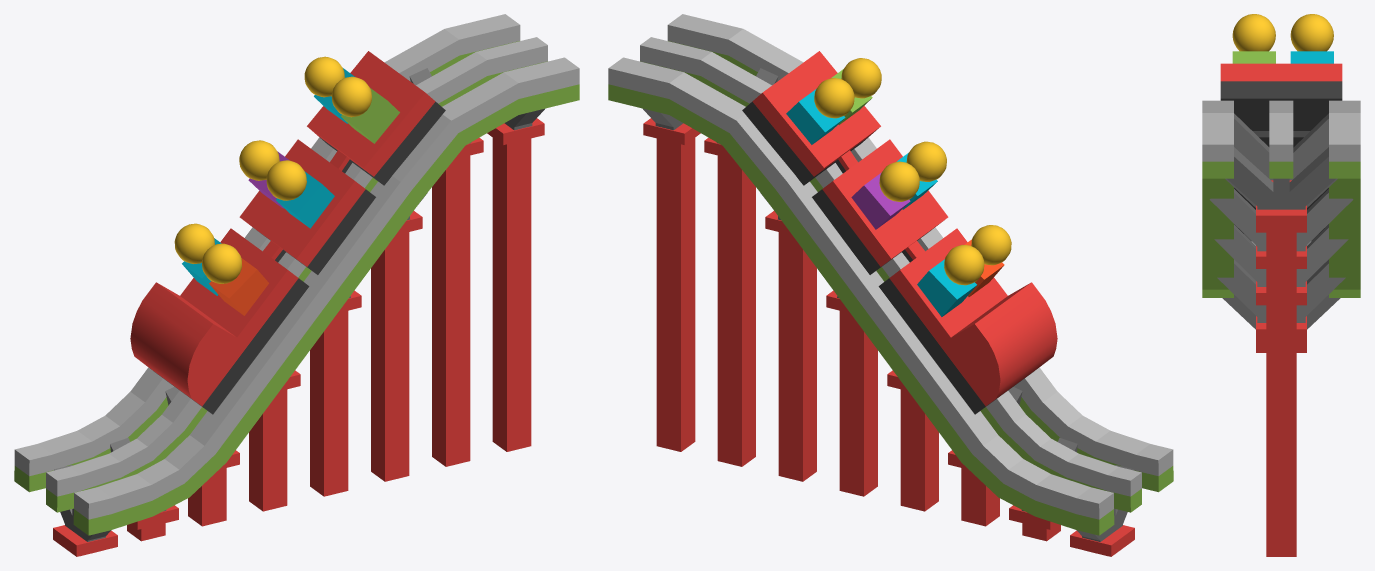
The model's file is roller_coaster.fbx.
The picture shows the model from 3 angles, left to right: view 1: azimuth 30°, elevation 25°; view 2: azimuth 150°, elevation 25°; view 3: azimuth 270°, elevation 25°; orthographic projection. The views are drawn at different scales.
Parts seen in each view (by area): view 1: Cube.553; view 2: Cube.553; view 3: Cube.553.
Part boxes in pixels (box(x1,y1,x2,y2)): Cube.553: box(14, 14, 579, 556); Cube.553: box(608, 14, 1173, 556); Cube.553: box(1202, 14, 1360, 556).
Bounding box in the file's own units: 226 × 183 × 59.03.
Materials: 1 (1 with a texture image).
